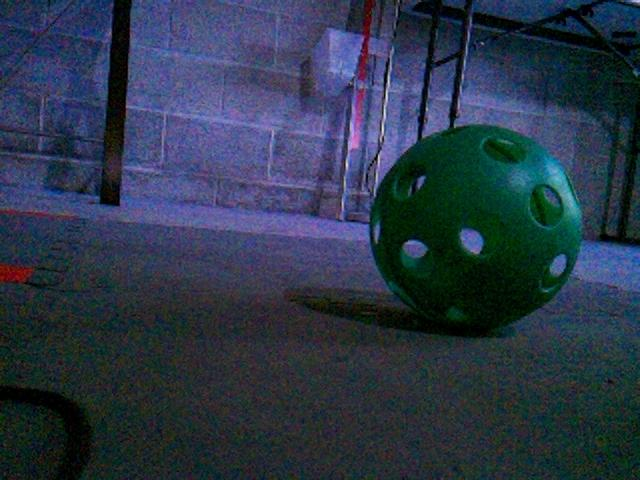Green: (366, 124, 587, 332)
